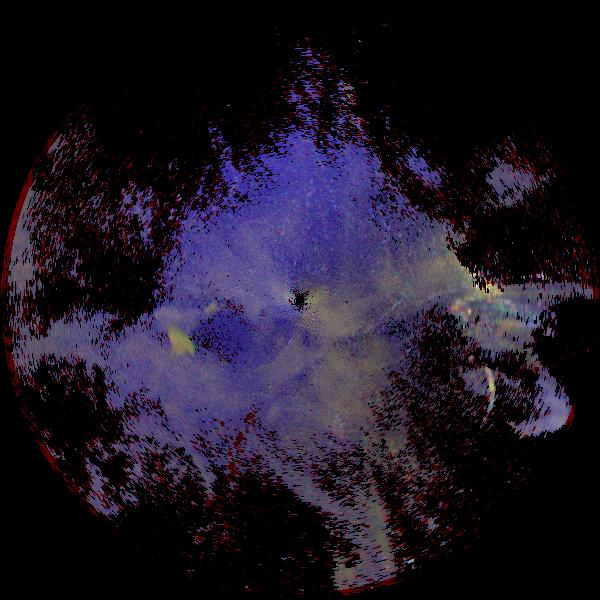roost: (144, 313, 213, 382)
